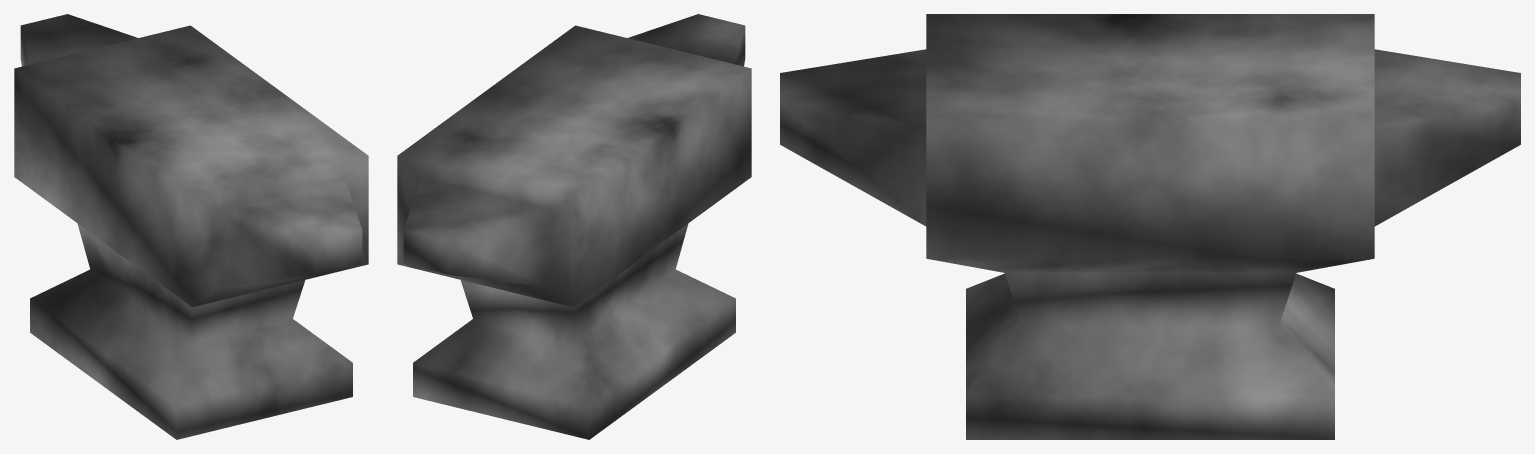
Rendered from anvil.fbx.
The picture shows the model from 3 angles, left to right: view 1: azimuth 30°, elevation 25°; view 2: azimuth 150°, elevation 25°; view 3: azimuth 270°, elevation 25°; orthographic projection. The views are drawn at different scales.
Visible parts, largest first — view 1: bak; view 2: bak; view 3: bak.
Part boxes in pixels (x1=…): bak: x1=14, y1=14, x2=368, y2=439; bak: x1=397, y1=14, x2=751, y2=439; bak: x1=780, y1=14, x2=1520, y2=439.
Size of the model in its own units: 114 by 157 by 331.
Materials: 1 (1 with a texture image).
